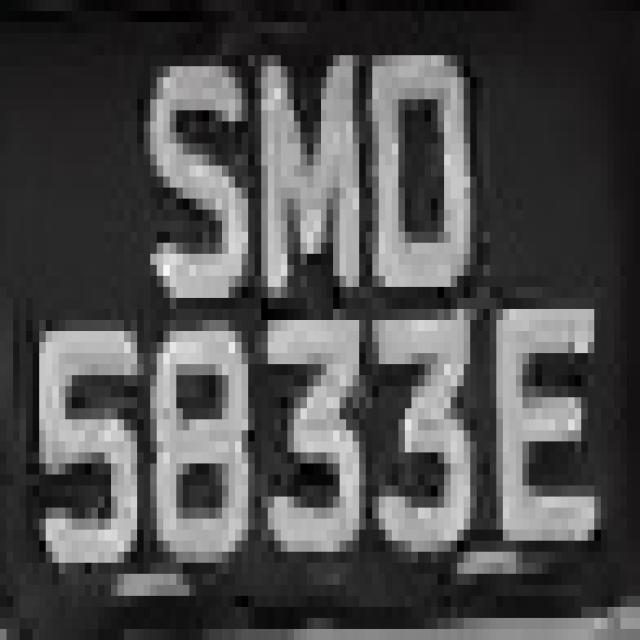3: (262, 298, 386, 552), (366, 265, 457, 574)
5: (20, 276, 137, 585)
8: (144, 287, 261, 585)
D: (346, 11, 483, 298)
E: (477, 276, 594, 574)
M: (235, 22, 372, 364)
S: (118, 11, 248, 298)
